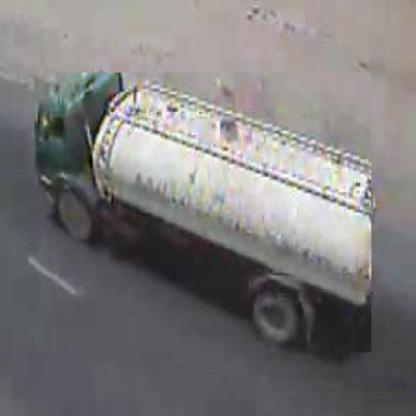truck: (36, 74, 374, 355)
